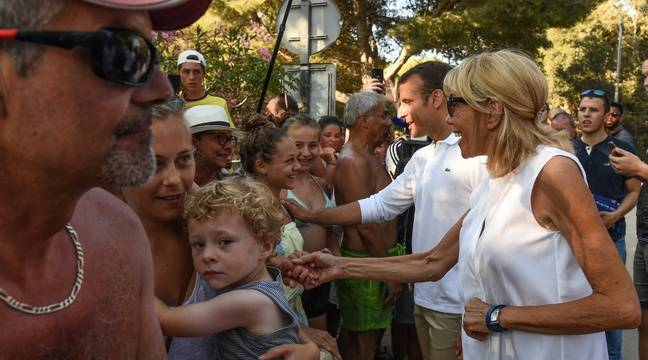without_mask: (50, 13, 167, 189), (131, 131, 195, 221), (185, 212, 253, 289), (443, 89, 497, 159), (394, 85, 435, 139), (266, 138, 300, 192), (361, 100, 393, 146), (200, 130, 235, 168), (288, 127, 318, 171), (579, 97, 602, 134), (178, 63, 204, 92), (320, 121, 342, 153)
